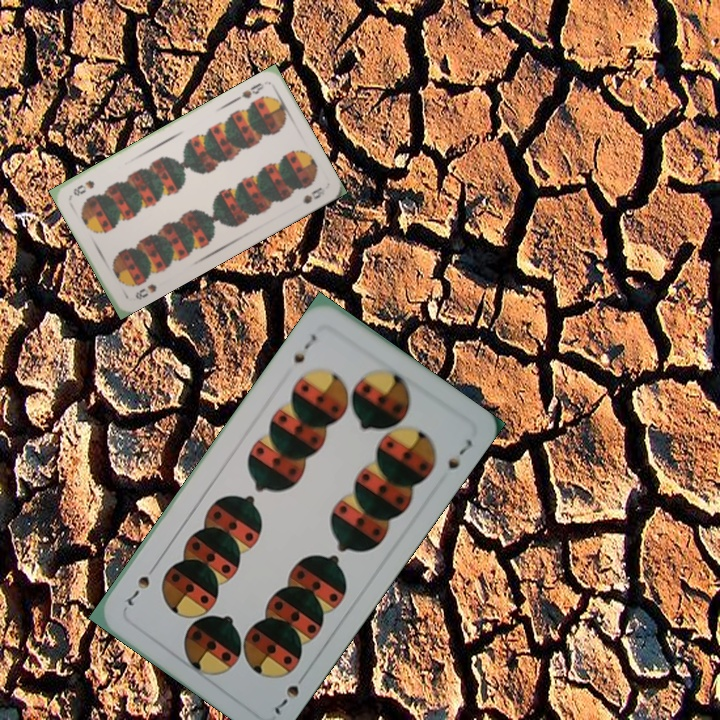S7: (270, 668, 310, 718), (289, 329, 320, 367)
S8: (230, 79, 267, 104), (131, 280, 160, 302)
